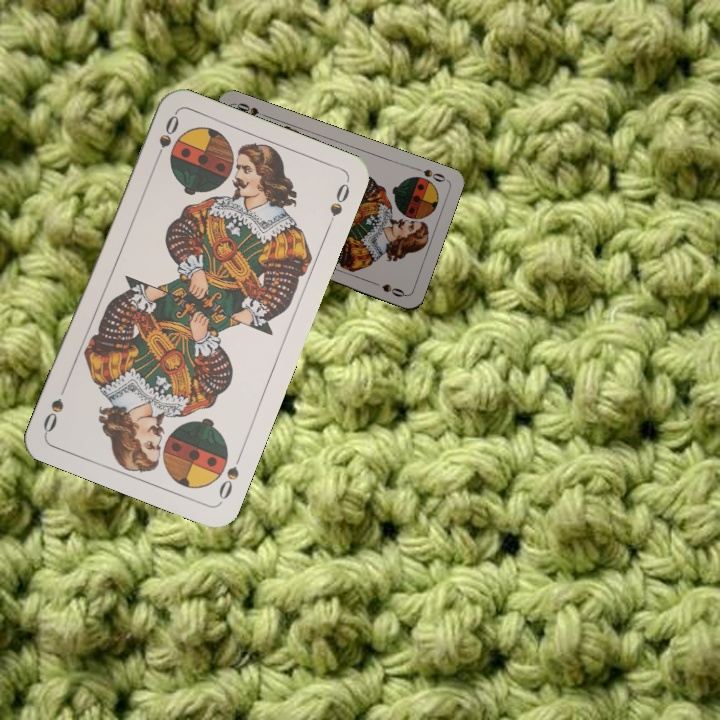SO: (150, 111, 182, 167), (214, 448, 245, 505), (410, 163, 448, 185)
